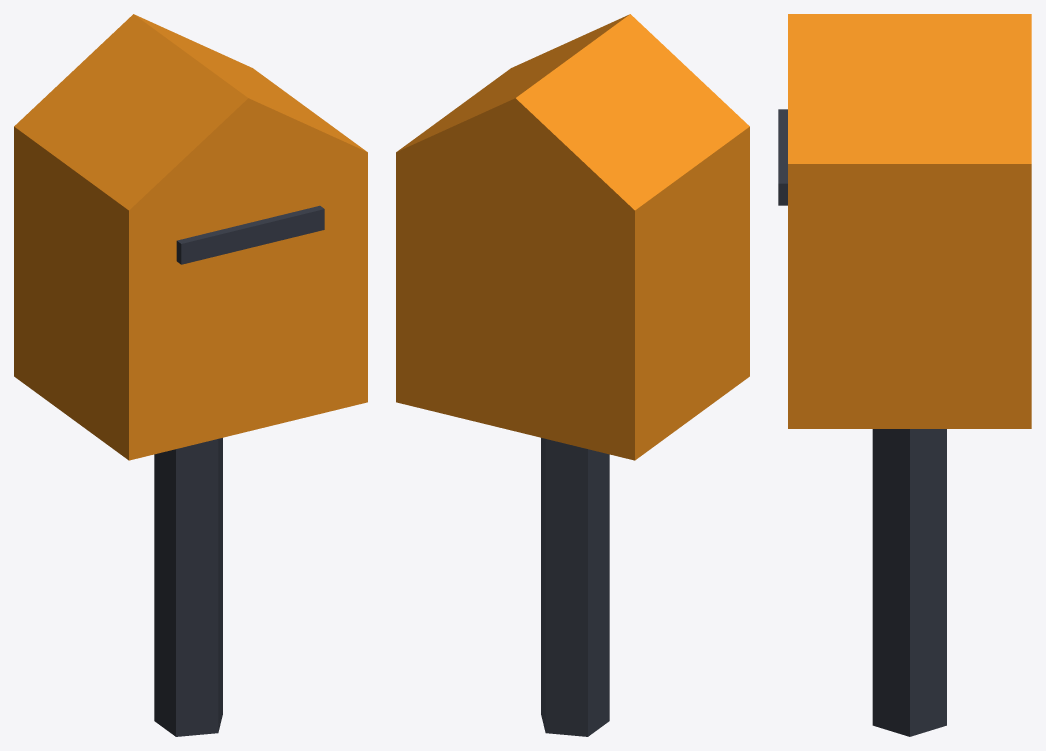
File: prop_mailbox.glb
3 renders of one model, left to right at view 1: azimuth 30°, elevation 25°; view 2: azimuth 150°, elevation 25°; view 3: azimuth 270°, elevation 25°, orthographic. The views are drawn at different scales.
Parts seen in each view (by area): view 1: prop_mailbox; view 2: prop_mailbox; view 3: prop_mailbox.
Boxes of the visible parts, x1,y1,x2,y2 form: prop_mailbox: [14, 14, 367, 736]; prop_mailbox: [396, 14, 749, 736]; prop_mailbox: [778, 14, 1031, 736].
Size of the model in its own units: 0.06 by 0.16 by 0.052.
